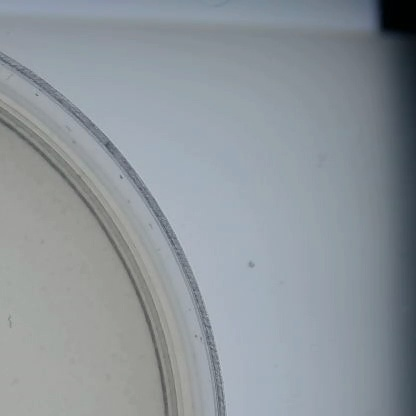worm: (0, 310, 16, 330)
